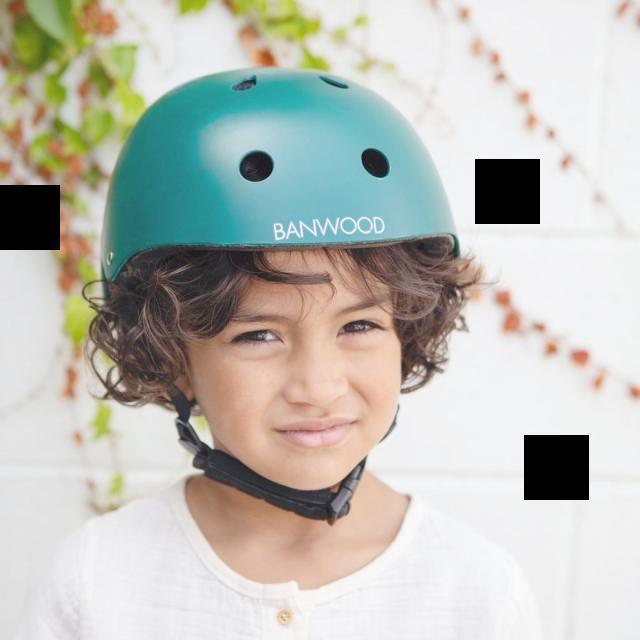helmet: (104, 66, 484, 526)
